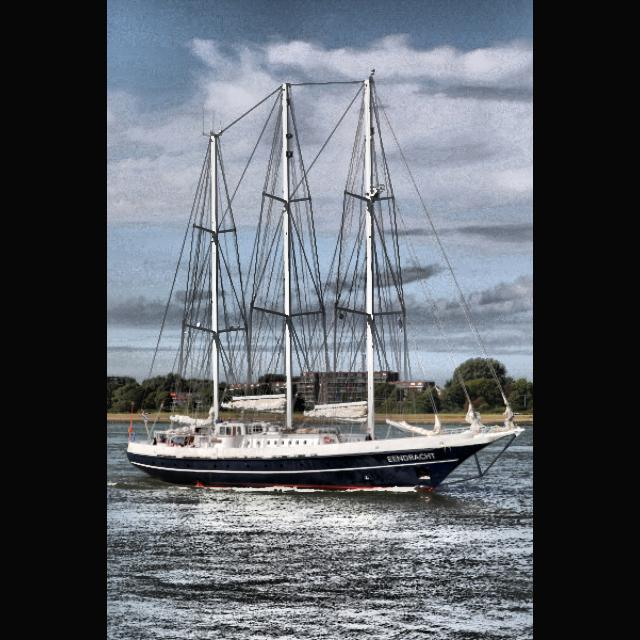sailing_vessel: (126, 74, 528, 496)
